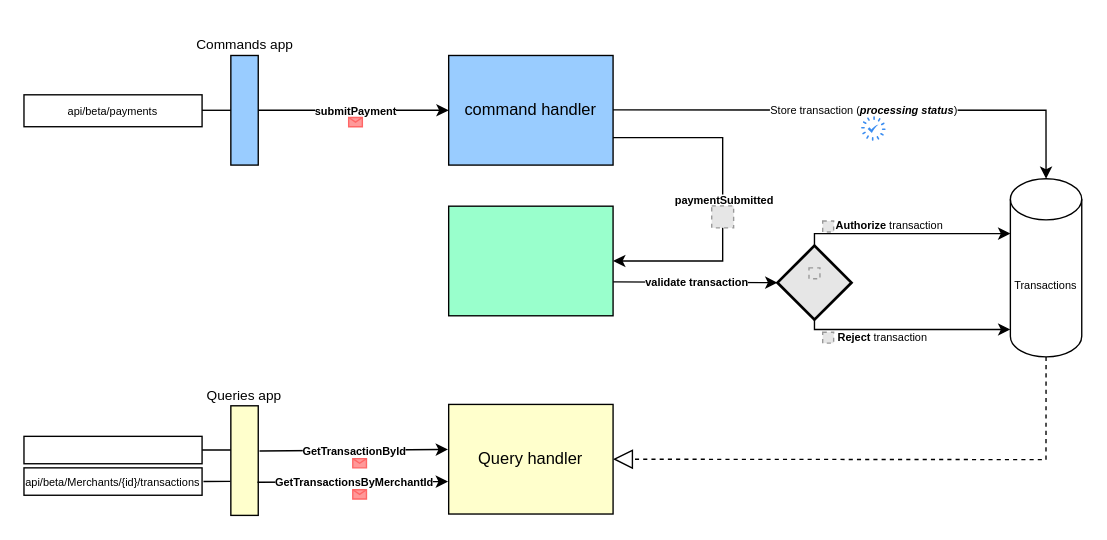
The diagram is 1107 pixels wide and 540 high, and some of its shapes have lost their labels. Grey dashed boxes stand in for pictures. The shapes that lost their labels are listed below. From the top down, each one's centre as x and y in pixels, then its label:
At point 530,260: "event handler".
At point 813,282: "Bank authorization".
At point 112,449: "api/beta/transactions/(id)".
